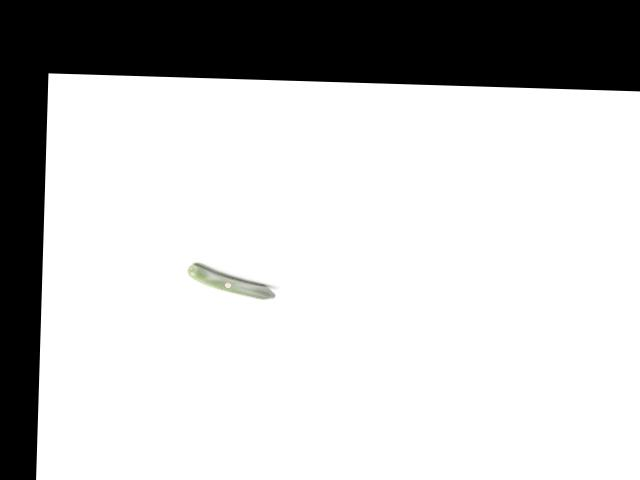cucumber: (186, 263, 275, 299)
